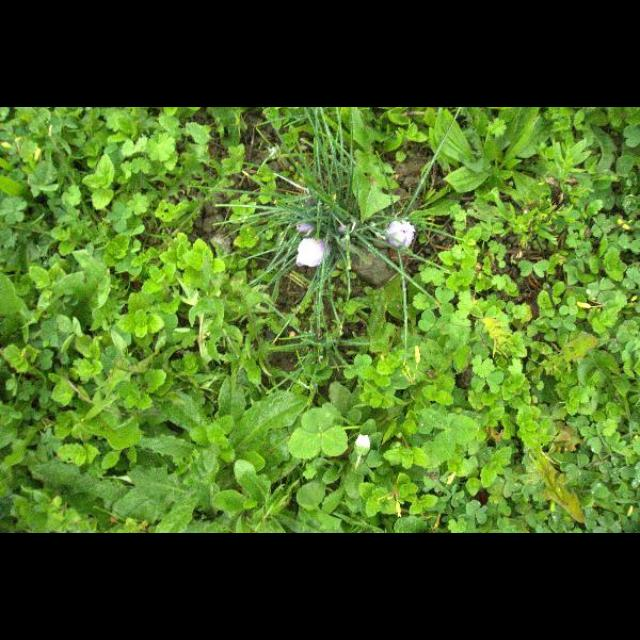flower: (296, 238, 332, 268), (384, 222, 416, 250)
